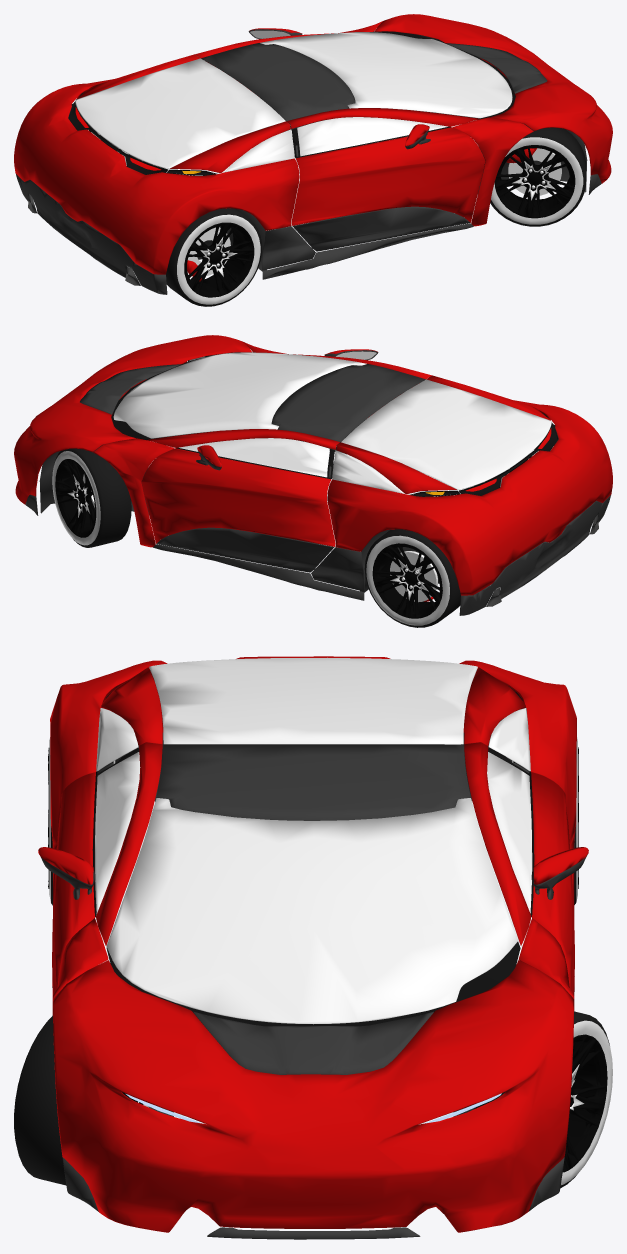
The model's file is CarConcept.game.glb.
The picture shows the model from 3 angles, top to bottom: view 1: azimuth 30°, elevation 25°; view 2: azimuth 150°, elevation 25°; view 3: azimuth 270°, elevation 25°; orthographic projection. The views are drawn at different scales.
Visible parts, largest first — view 1: BodyRearPanelsColor1, BodyRearwindow, BodyDoorRColor1, BodyWindshield, BodyHood, BodyPanelsColor2, BodyRoofPanel, BodyPillars, BodyDoorRColor2, WheelFrontRRim, WheelRearRRim, BodyDoorRWindow (+8 smaller); view 2: BodyRearPanelsColor1, BodyRearwindow, BodyDoorLColor1, BodyWindshield, BodyHood, BodyPanelsColor2, BodyRoofPanel, BodyPillars, BodyDoorLColor2, WheelFrontL, WheelRearLRim, BodyDoorLWindow (+8 smaller); view 3: BodyHood, BodyWindshield, BodyRearwindow, BodyRoofPanel, BodyRearPanelsColor1, BodyPillars, BodyHoodTopgrill, WheelFrontR, BodyDoorLColor1, BodyDoorRColor1, BodyDoorRWindow, BodyDoorLWindow (+7 smaller).
Part boxes in pixels (bbox=[...]): BodyRearPanelsColor1: bbox=[14, 54, 299, 274]; BodyRearwindow: bbox=[75, 58, 285, 168]; BodyDoorRColor1: bbox=[291, 127, 485, 225]; BodyWindshield: bbox=[260, 32, 512, 118]; BodyHood: bbox=[374, 14, 612, 183]; BodyPanelsColor2: bbox=[16, 119, 601, 294]; BodyRoofPanel: bbox=[201, 43, 354, 120]; BodyPillars: bbox=[195, 21, 533, 226]; BodyDoorRColor2: bbox=[292, 206, 470, 251]; WheelFrontRRim: bbox=[494, 145, 575, 218]; WheelRearRRim: bbox=[184, 222, 254, 297]; BodyDoorRWindow: bbox=[297, 117, 447, 156]; BodyRearPanelsColor1: bbox=[327, 375, 612, 595]; BodyRearwindow: bbox=[341, 379, 551, 489]; BodyDoorLColor1: bbox=[141, 448, 335, 546]; BodyWindshield: bbox=[113, 352, 366, 438]; BodyHood: bbox=[14, 335, 251, 504]; BodyPanelsColor2: bbox=[25, 440, 610, 615]; BodyRoofPanel: bbox=[272, 364, 425, 442]; BodyPillars: bbox=[93, 342, 431, 547]; BodyDoorLColor2: bbox=[156, 527, 334, 572]; WheelFrontL: bbox=[52, 444, 131, 547]; WheelRearLRim: bbox=[372, 543, 442, 618]; BodyDoorLWindow: bbox=[179, 438, 329, 477]; BodyHood: bbox=[53, 960, 573, 1232]; BodyWindshield: bbox=[106, 798, 518, 1024]; BodyRearwindow: bbox=[149, 657, 477, 744]; BodyRoofPanel: bbox=[156, 744, 470, 820]; BodyRearPanelsColor1: bbox=[50, 656, 576, 849]; BodyPillars: bbox=[52, 742, 574, 1014]; BodyHoodTopgrill: bbox=[193, 1011, 433, 1074]; WheelFrontR: bbox=[14, 1015, 148, 1185]; BodyDoorLColor1: bbox=[531, 772, 574, 995]; BodyDoorRColor1: bbox=[52, 772, 95, 995]; BodyDoorRWindow: bbox=[95, 752, 140, 913]; BodyDoorLWindow: bbox=[487, 752, 532, 913].
Bounding box in the file's own units: 4.4 × 1.16 × 2.57.
